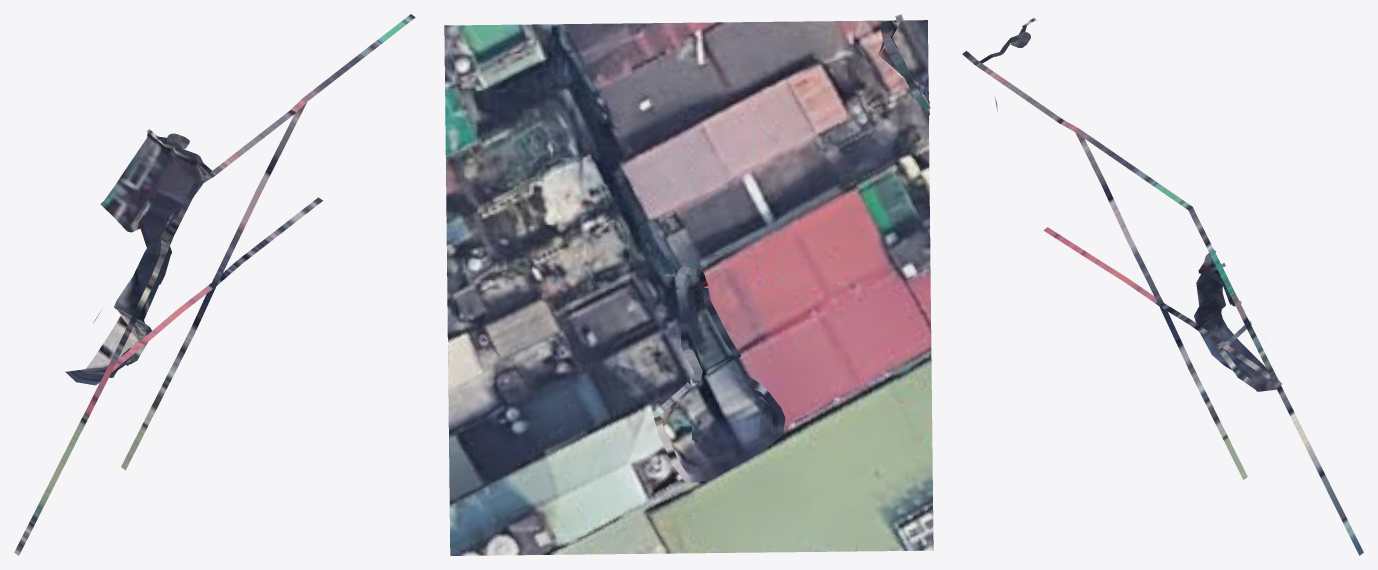
3 views of the same model, side by side, from view 1: azimuth 30°, elevation 25°; view 2: azimuth 150°, elevation 25°; view 3: azimuth 270°, elevation 25° (orthographic). The views are drawn at different scales.
Bounding box in the file's own units: 37.97 × 37.71 × 32.18.
Materials: 1 (1 with a texture image).
